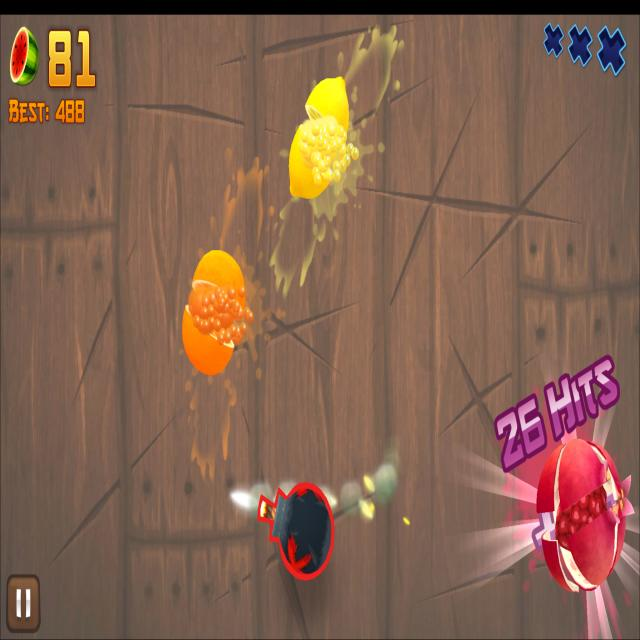bomb: (258, 482, 336, 580)
